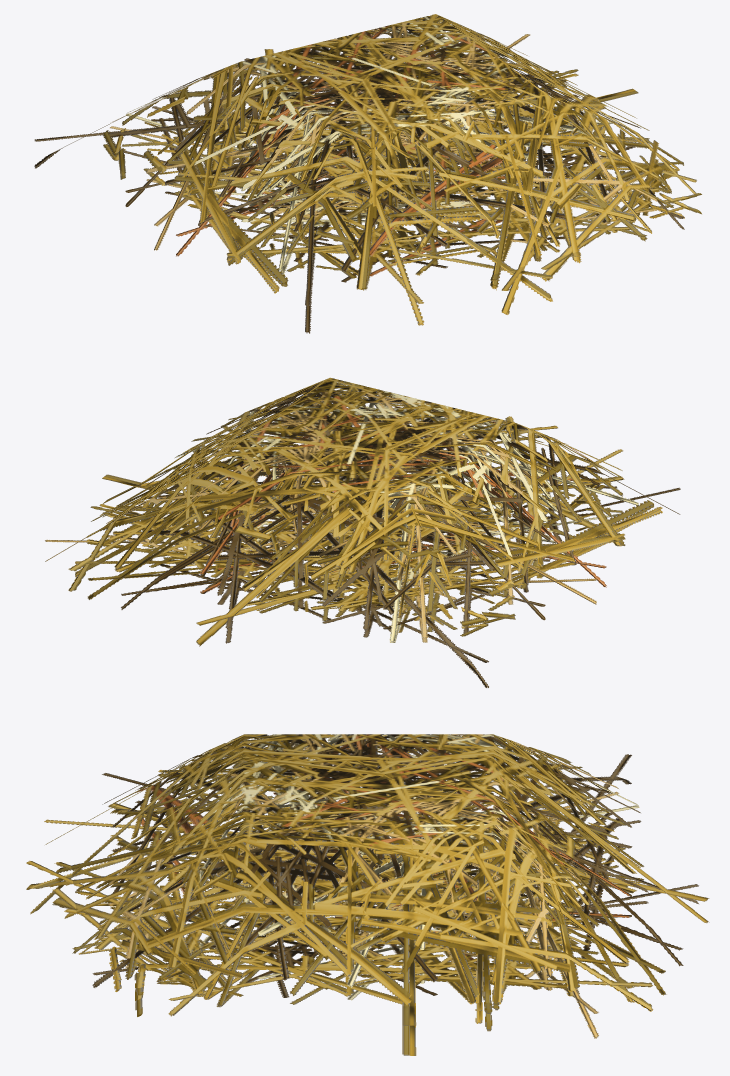
The model's file is slama2.FBX.
The picture shows the model from 3 angles, top to bottom: view 1: azimuth 30°, elevation 25°; view 2: azimuth 150°, elevation 25°; view 3: azimuth 270°, elevation 25°; orthographic projection. The views are drawn at different scales.
Visible parts, largest first — view 1: Slama002_LOD1, Slama002_LOD2; view 2: Slama002_LOD1, Slama002_LOD2; view 3: Slama002_LOD1, Slama002_LOD2.
Boxes of the visible parts, box(x1,y1,x2,y2) form: Slama002_LOD1: box(34, 14, 701, 333); Slama002_LOD2: box(34, 31, 701, 305); Slama002_LOD1: box(45, 377, 680, 687); Slama002_LOD2: box(45, 404, 680, 662); Slama002_LOD1: box(26, 734, 709, 1055); Slama002_LOD2: box(26, 754, 709, 1025).
Size of the model in its own units: 87.84 by 20.39 by 93.07.
